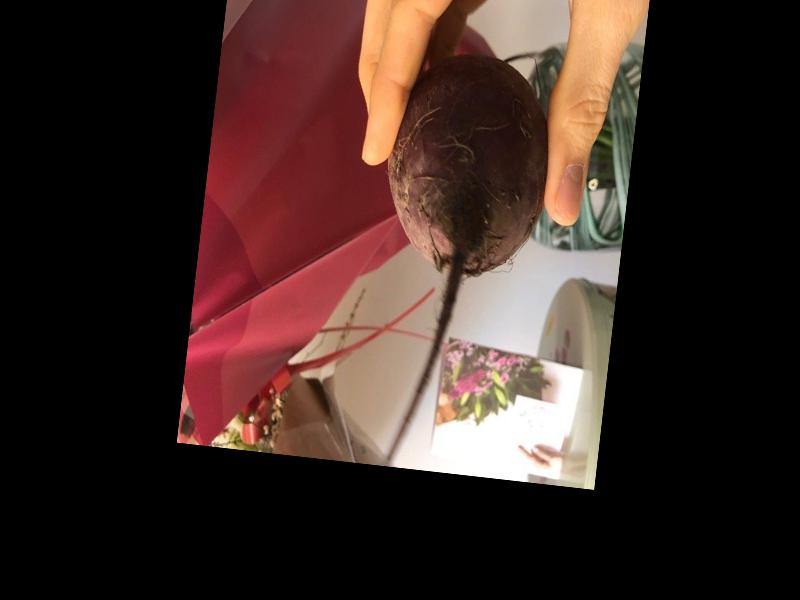Beet: (354, 40, 560, 481)
